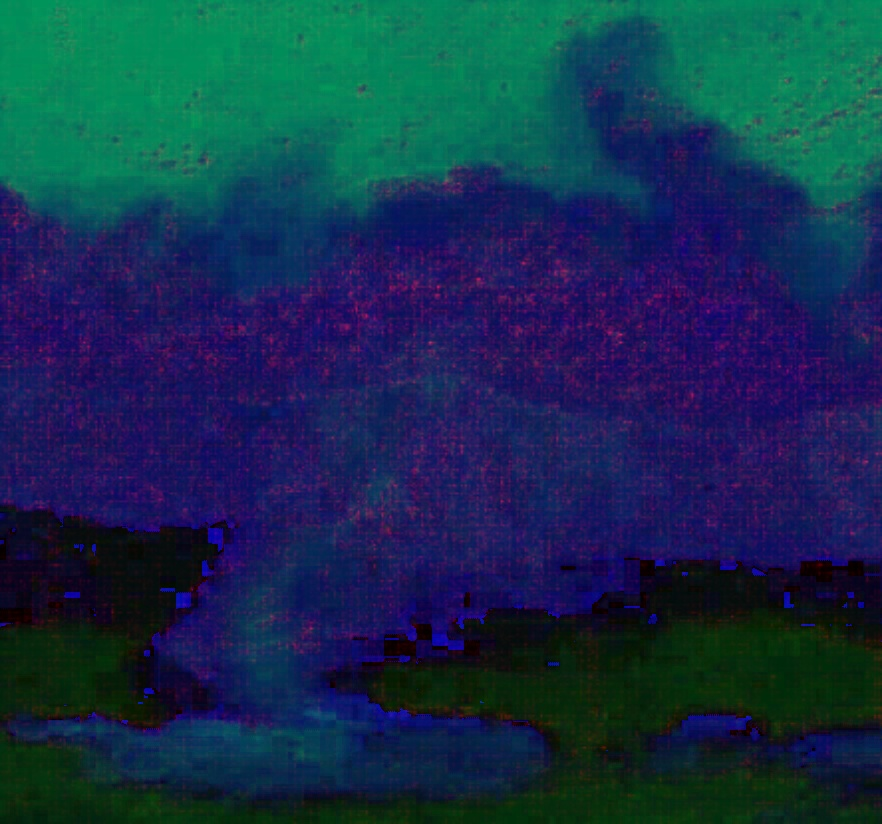rip_current: (263, 159, 449, 652)
